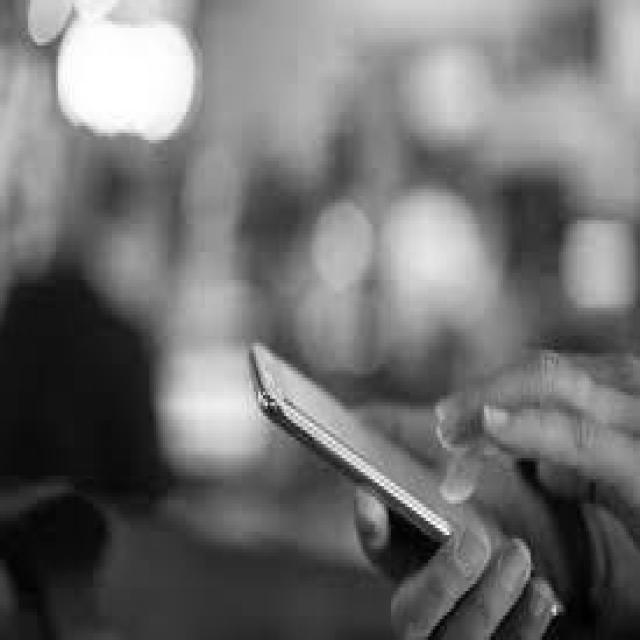No gun_phone: (252, 348, 566, 619)
